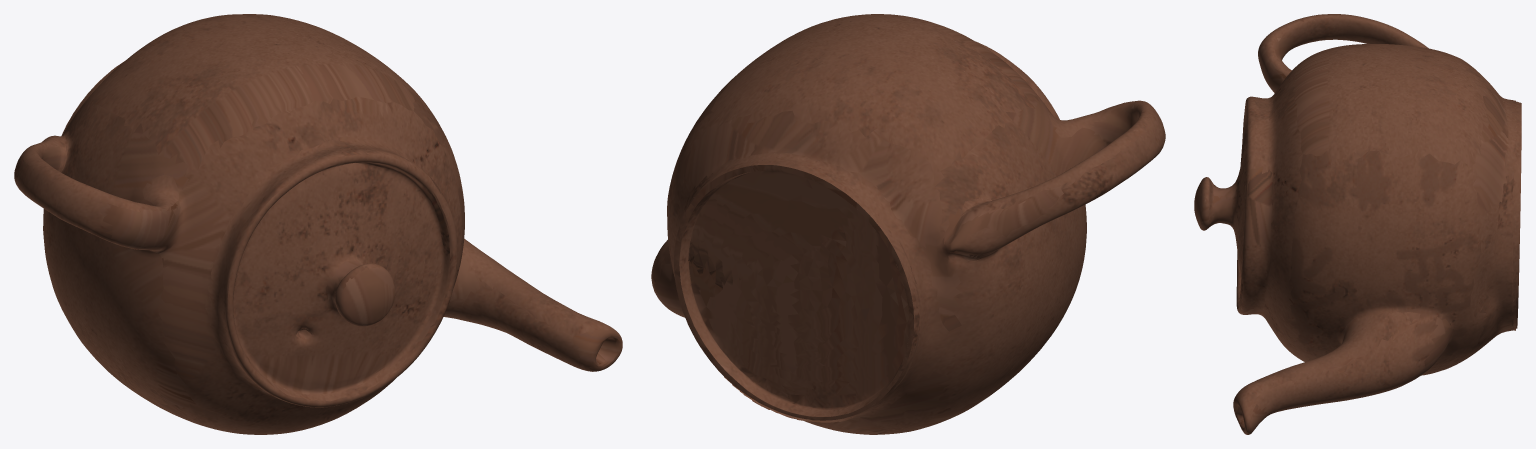
The picture shows the model from 3 angles, left to right: view 1: azimuth 30°, elevation 25°; view 2: azimuth 150°, elevation 25°; view 3: azimuth 270°, elevation 25°; orthographic projection. The views are drawn at different scales.
Bounding box in the file's own units: 1 × 0.6751 × 0.6635.
